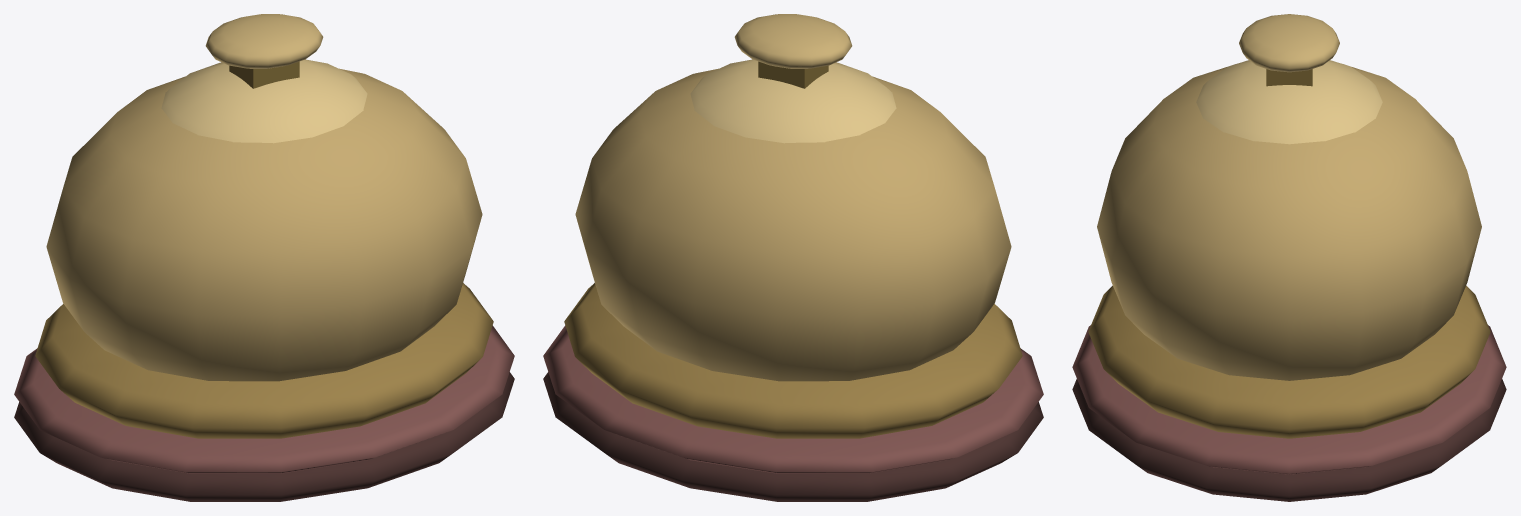
File: CMU3DBrassDeskBell.glb
3 renders of one model, left to right at view 1: azimuth 30°, elevation 25°; view 2: azimuth 150°, elevation 25°; view 3: azimuth 270°, elevation 25°, orthographic. The views are drawn at different scales.
Parts seen in each view (by area): view 1: brass bell dome, lower brass skirt, red-brown base rim, dark bell base, dome crown, bell plunger button, bell plunger stem; view 2: brass bell dome, lower brass skirt, red-brown base rim, dark bell base, dome crown, bell plunger button, bell plunger stem; view 3: brass bell dome, lower brass skirt, red-brown base rim, dark bell base, dome crown, bell plunger button, bell plunger stem.
Boxes of the visible parts, x1,y1,x2,y2 form: brass bell dome: (46,68,482,381); lower brass skirt: (35,283,493,438); red-brown base rim: (14,325,514,473); dark bell base: (14,372,514,501); dome crown: (161,59,367,143); bell plunger button: (205,14,323,68); bell plunger stem: (229,61,299,88); brass bell dome: (575,68,1011,381); lower brass skirt: (564,283,1022,438); red-brown base rim: (543,325,1043,473); dark bell base: (543,372,1043,501); dome crown: (690,59,896,143); bell plunger button: (734,14,852,68); bell plunger stem: (758,61,828,88); brass bell dome: (1097,64,1481,380); lower brass skirt: (1088,285,1490,438); red-brown base rim: (1072,325,1506,474); dark bell base: (1072,379,1506,501); dome crown: (1196,60,1382,144); bell plunger button: (1239,14,1339,72); bell plunger stem: (1266,69,1312,86).
Size of the model in its own units: 0.348 by 0.304 by 0.3.
